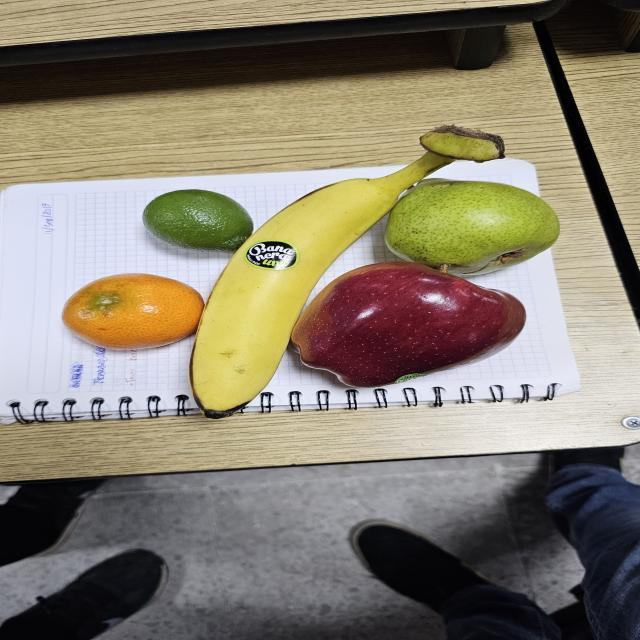Apel Merah: (292, 258, 542, 410)
Jeruk Mandarin: (21, 263, 212, 366)
Lemon: (140, 173, 272, 264)
Pir: (371, 173, 577, 281)
Pisang: (193, 111, 503, 430)
